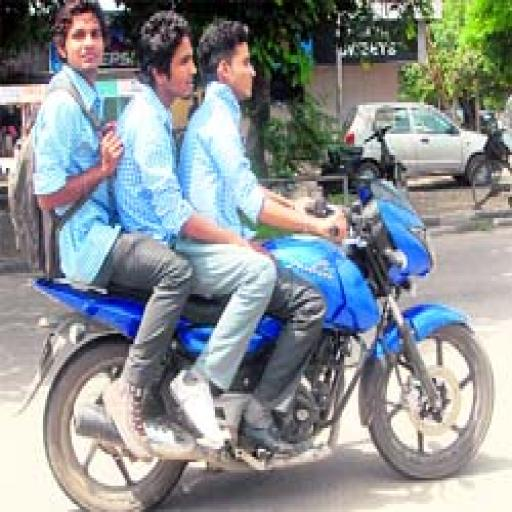overloading: (20, 176, 496, 509)
